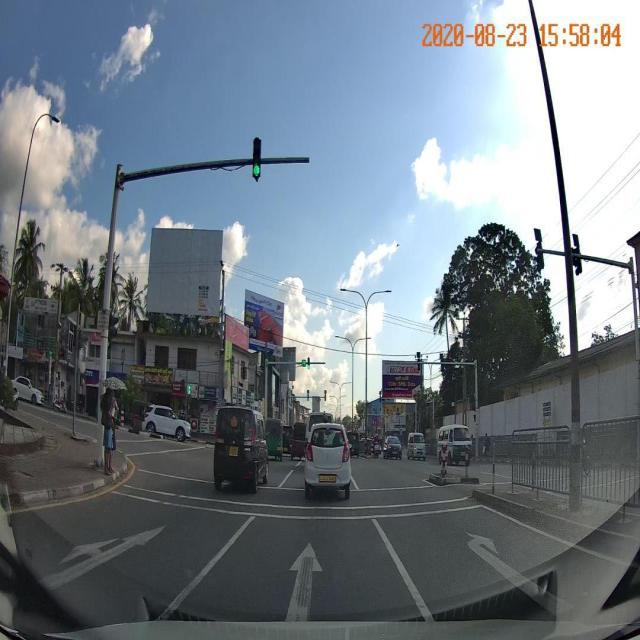Liniya 1: (150, 515, 257, 623), (370, 515, 436, 621), (125, 447, 205, 457), (278, 470, 294, 487), (351, 475, 359, 489)
Liniya 2: (110, 489, 483, 520), (123, 483, 469, 510), (137, 469, 215, 484), (350, 486, 435, 491), (257, 486, 305, 490)
Strelka vpered: (285, 538, 326, 620)
Strelka vpered - vlevo: (32, 528, 167, 595)
Strelka vpravo: (464, 531, 574, 617)
